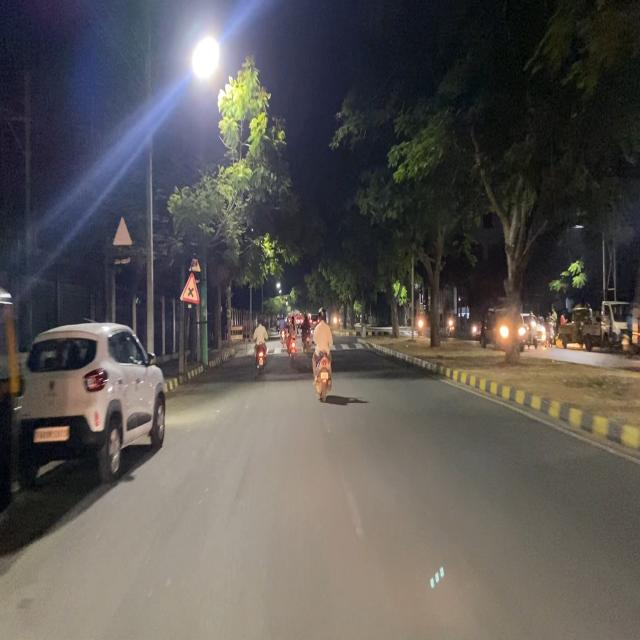bien_cam: (180, 269, 201, 309)
